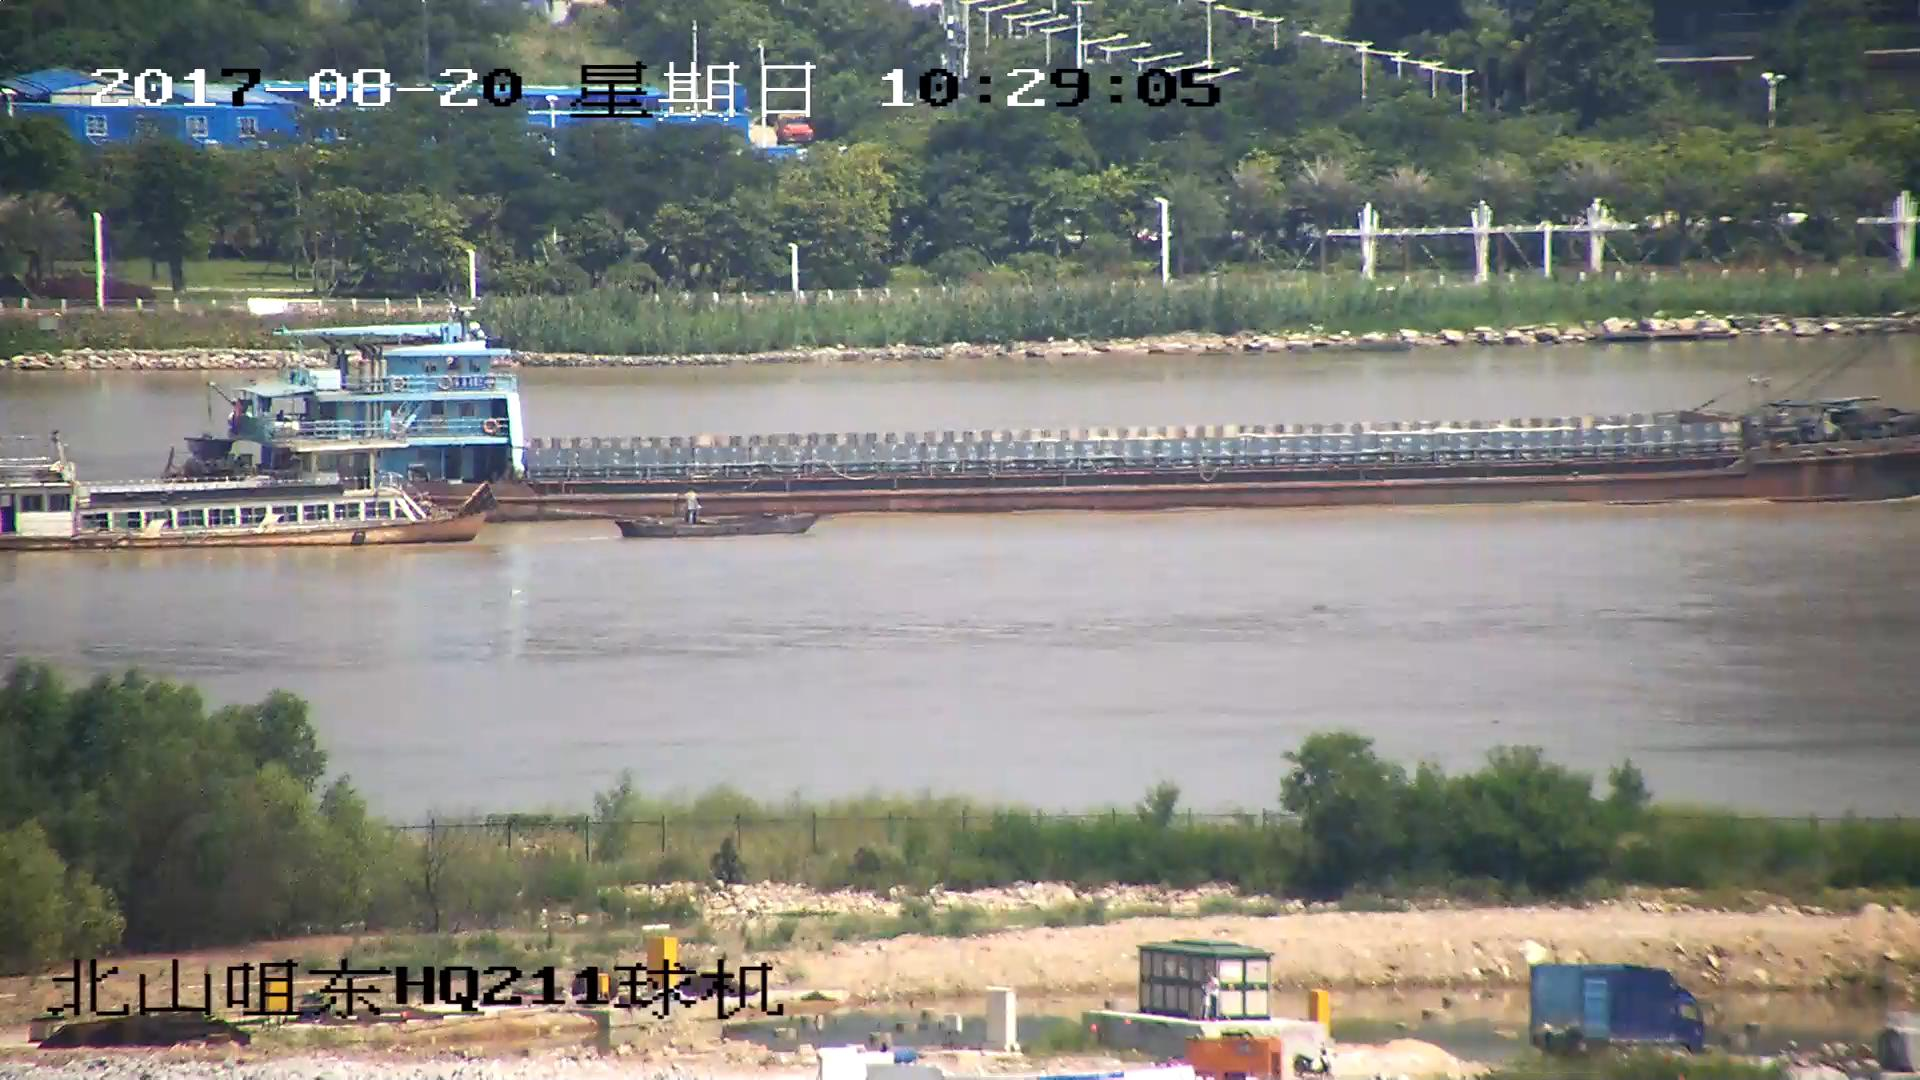fishing boat: (1, 438, 499, 546), (614, 495, 823, 535)
ore carrier: (161, 327, 1920, 511)
